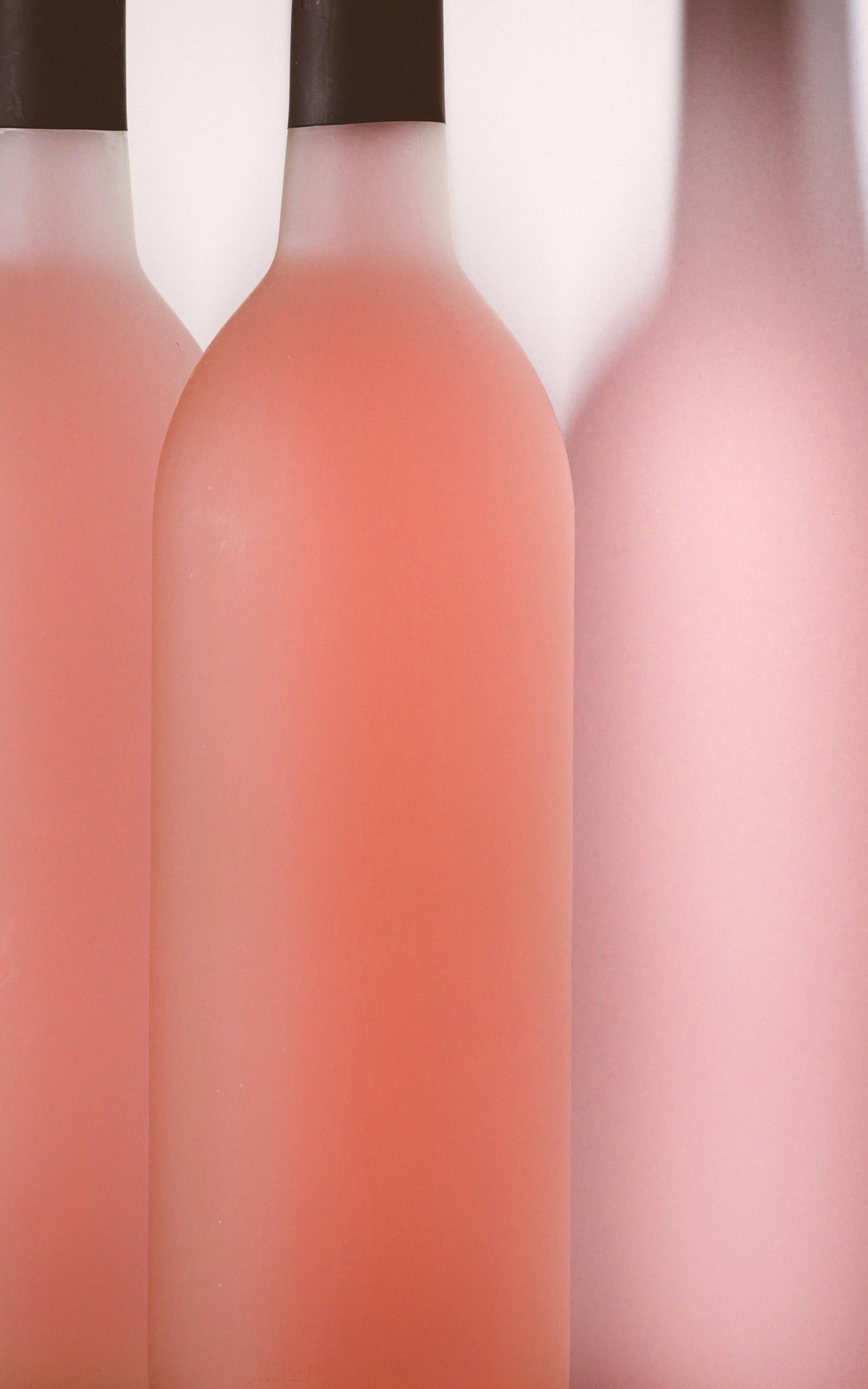Bottle-Detection: (134, 0, 620, 1389), (549, 0, 868, 1389), (7, 7, 224, 1389)
